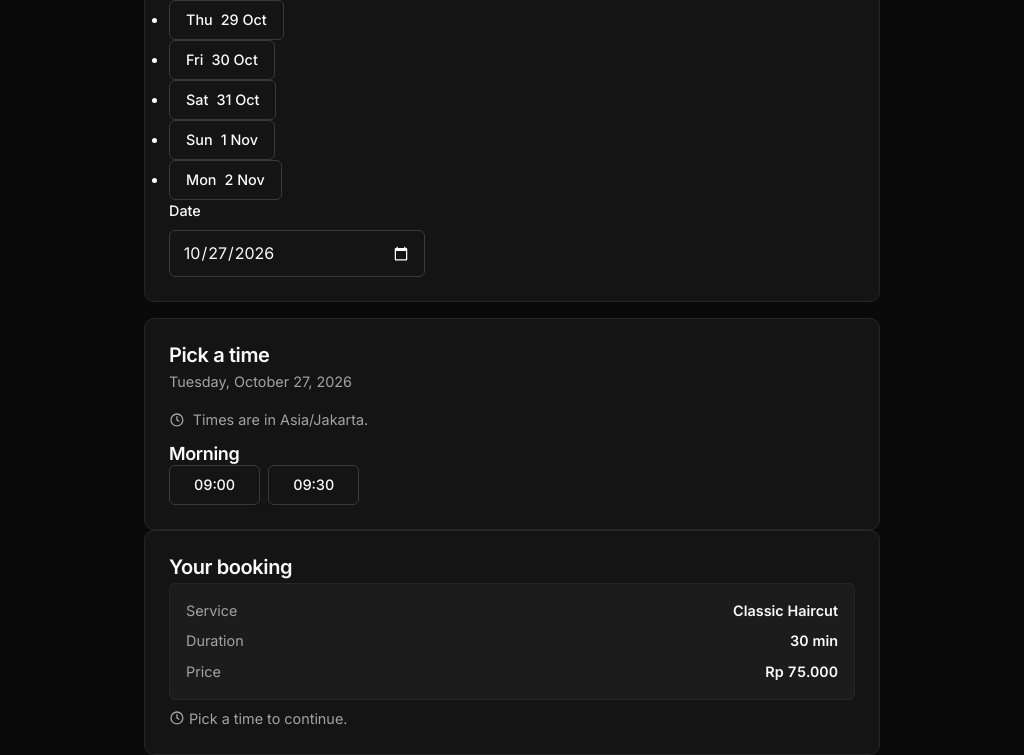
Test: BookingPage › lets the user pick a time
(page scrolled)
Step 1. Click the button "09:00" → (215, 485), box top-left (169, 465), bottom-right (260, 505)
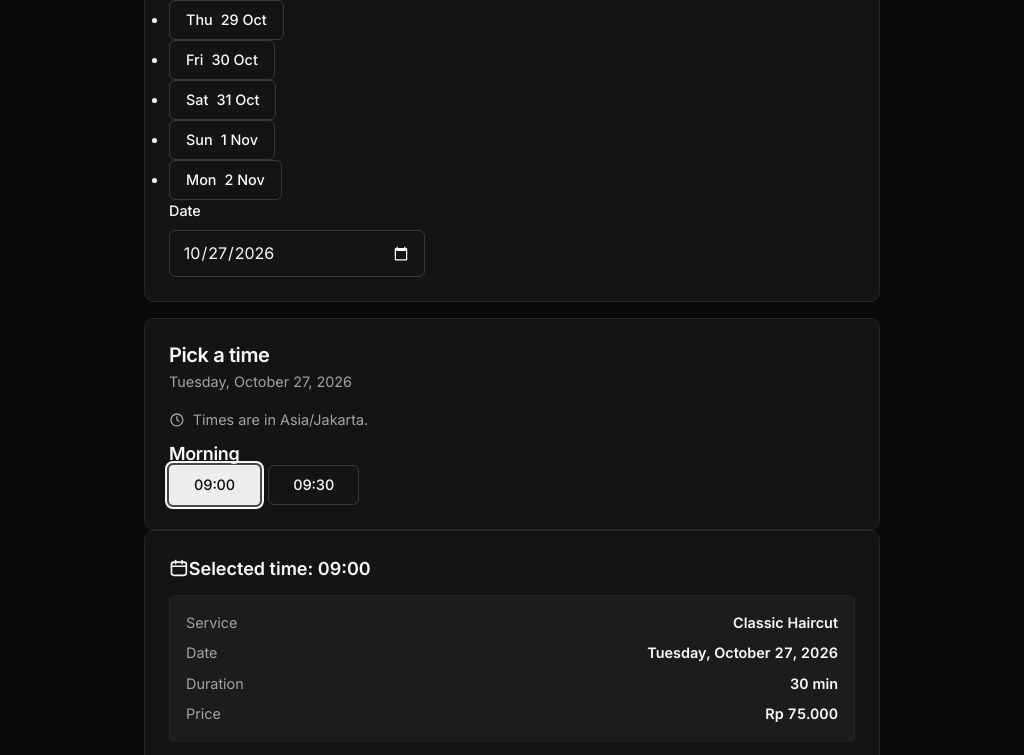
Expected: the text "Selected time: 09:00" is shown, top-left (169, 558), bottom-right (371, 579)
